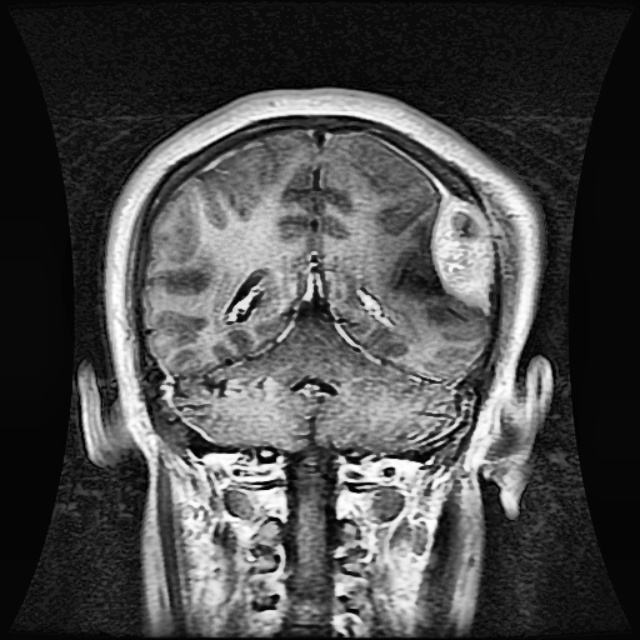Glioma: (433, 195, 495, 310)
